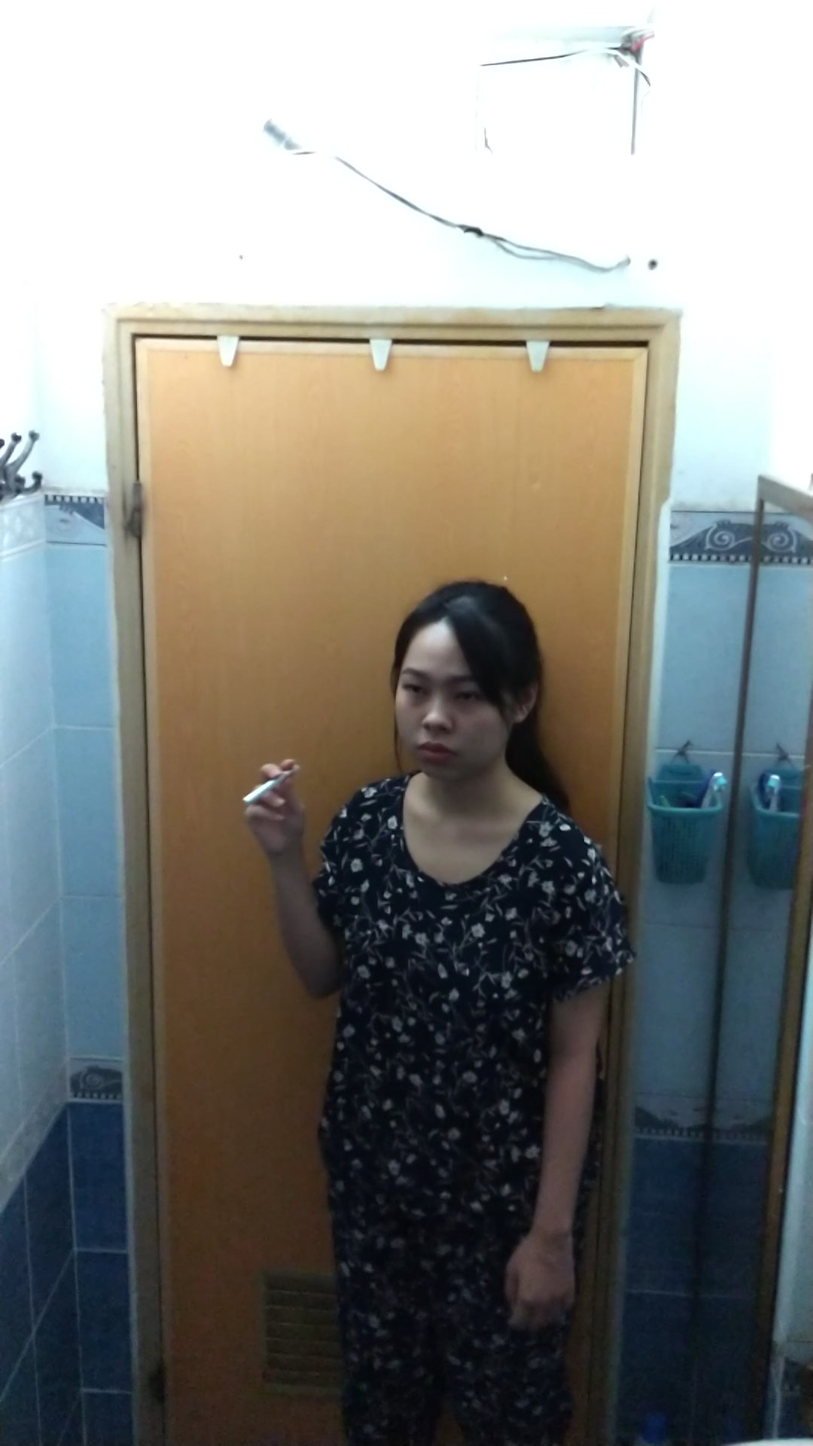cigarette: (239, 776, 276, 808)
person: (237, 572, 640, 1445)
